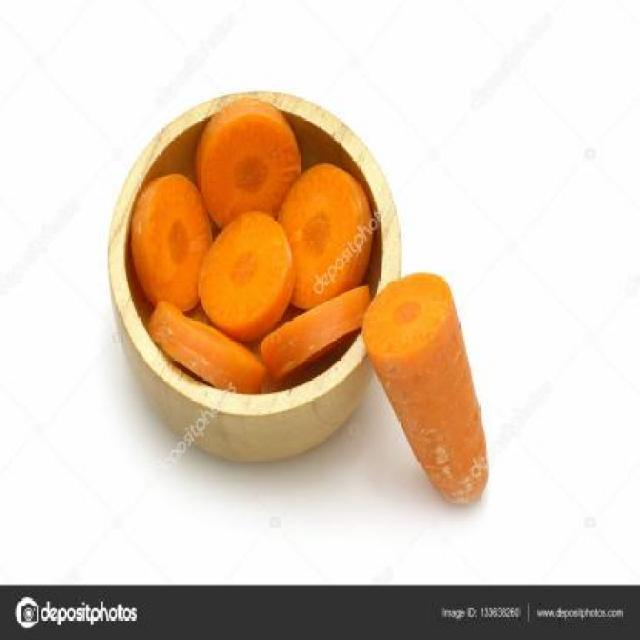carrot: (365, 270, 492, 510)
